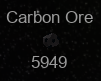Carbon: (6, 9, 93, 70)
